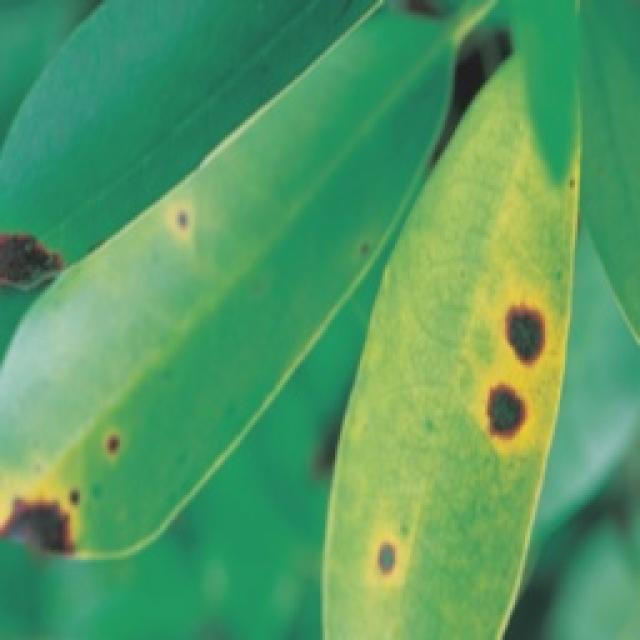Tar_Spot: (459, 236, 614, 464), (20, 400, 212, 576)
